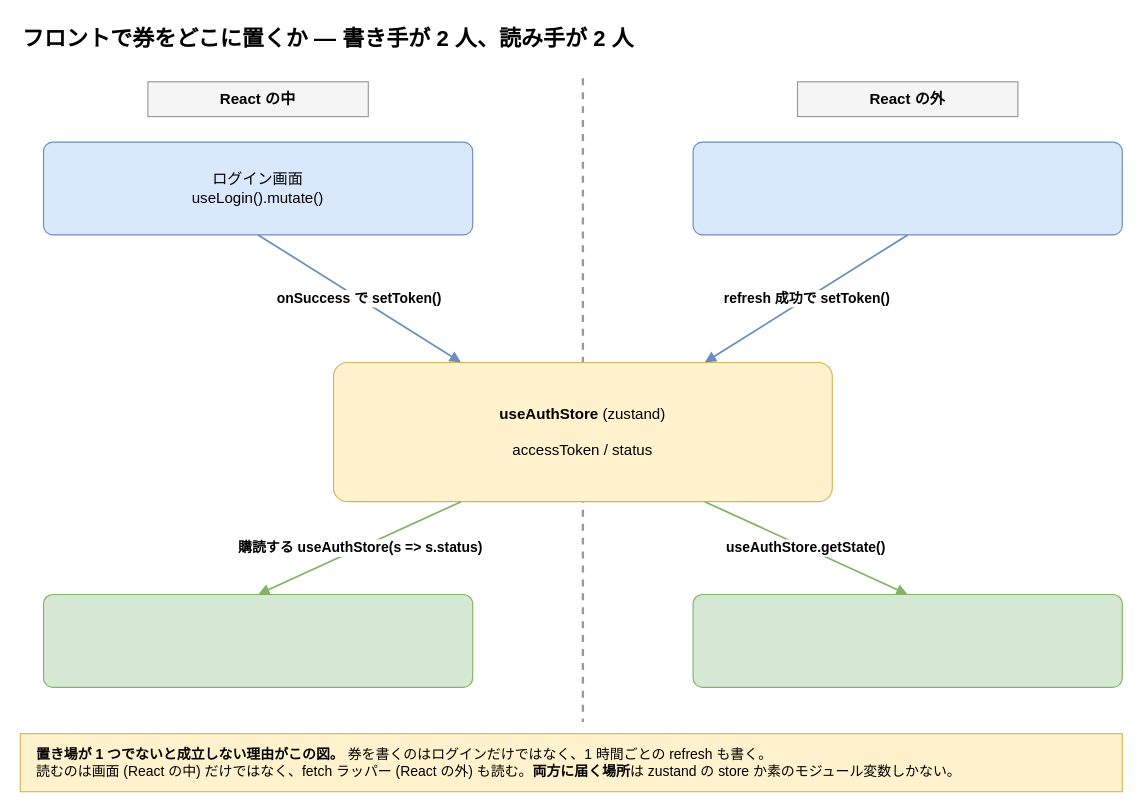
Some shapes in this 1143 by 812 pixel diagram are drawn without their labels. Each missing label, with the centre of its shape:
"Authorization ヘッダに詰める" goes at pixel 907 640.
"fetch ラッパー 401 を受けたら refresh" goes at pixel 907 188.
"画面を出し分ける Splash / Login / 本体" goes at pixel 257 640.
